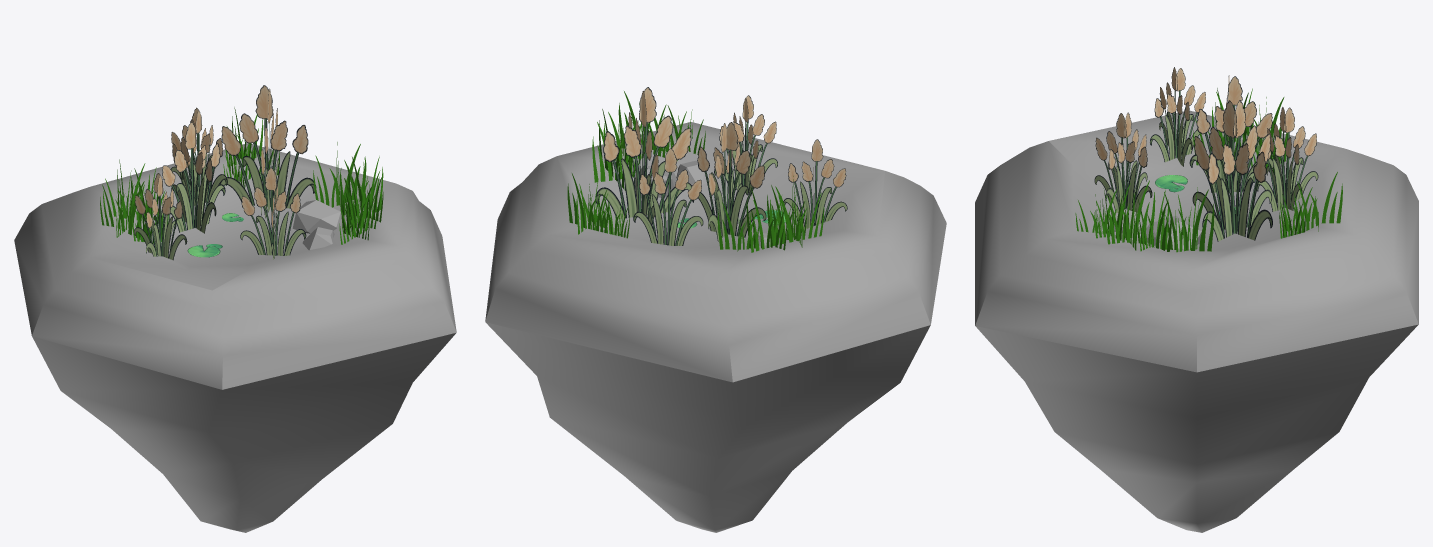
The model's file is Basic_Wetland.fbx.
3 views of the same model, side by side, from view 1: azimuth 30°, elevation 25°; view 2: azimuth 150°, elevation 25°; view 3: azimuth 270°, elevation 25° (orthographic). The views are drawn at different scales.
Parts seen in each view (by area): view 1: Basic_Wetland2_mod; view 2: Basic_Wetland2_mod; view 3: Basic_Wetland2_mod.
Part boxes in pixels (box(x1,y1,x2,y2)): Basic_Wetland2_mod: box(14, 85, 456, 532); Basic_Wetland2_mod: box(485, 87, 946, 532); Basic_Wetland2_mod: box(975, 67, 1418, 532).
Size of the model in its own units: 11.53 by 12.04 by 9.99.
